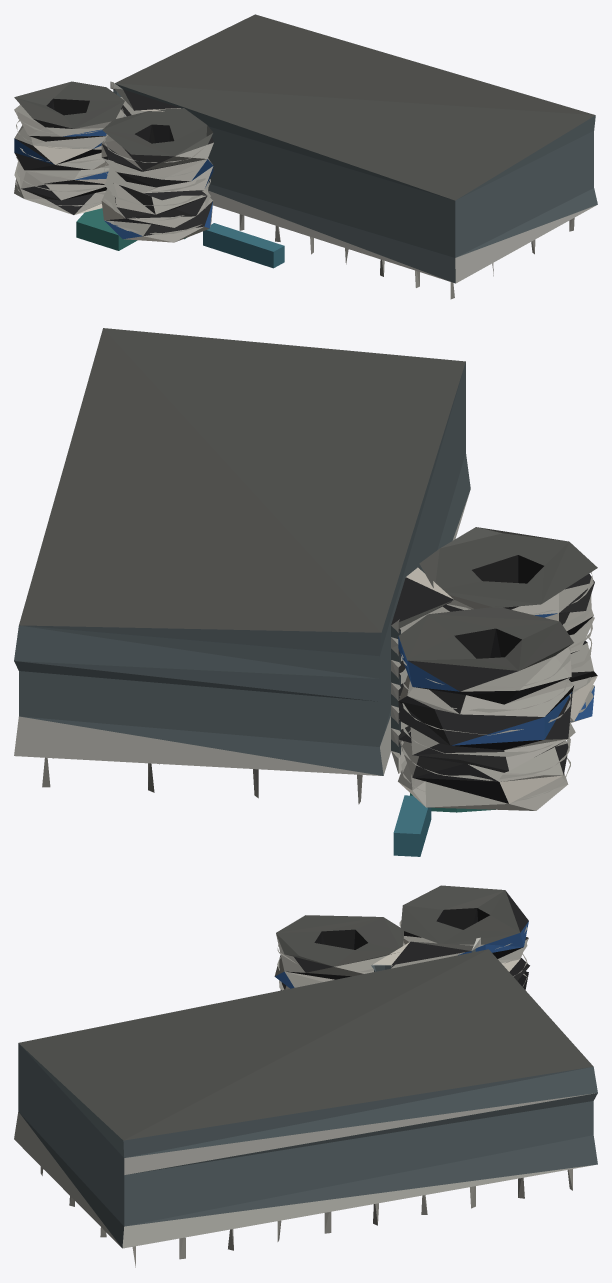
Rendered from europarking-marnixstraat.lod2.glb.
3 views of the same model, one above another, from view 1: azimuth 30°, elevation 25°; view 2: azimuth 150°, elevation 25°; view 3: azimuth 270°, elevation 25° (orthographic). The views are drawn at different scales.
Parts seen in each view (by area): view 1: lod2; view 2: lod2; view 3: lod2.
Boxes of the visible parts, x1,y1,x2,y2 form: lod2: (14,14,597,299); lod2: (14,328,597,856); lod2: (14,885,597,1267).
Bounding box in the file's own units: 82.46 × 22.01 × 80.4.
